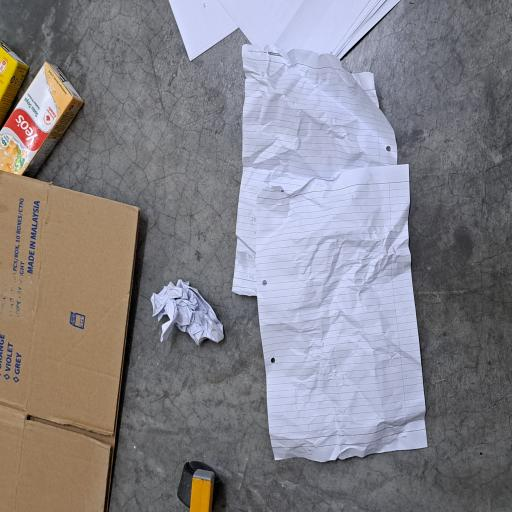cardboard: (0, 0, 254, 187)
drink carton: (252, 0, 338, 110), (291, 0, 354, 35)
paper: (39, 310, 384, 512), (123, 200, 174, 303), (337, 216, 384, 310)
